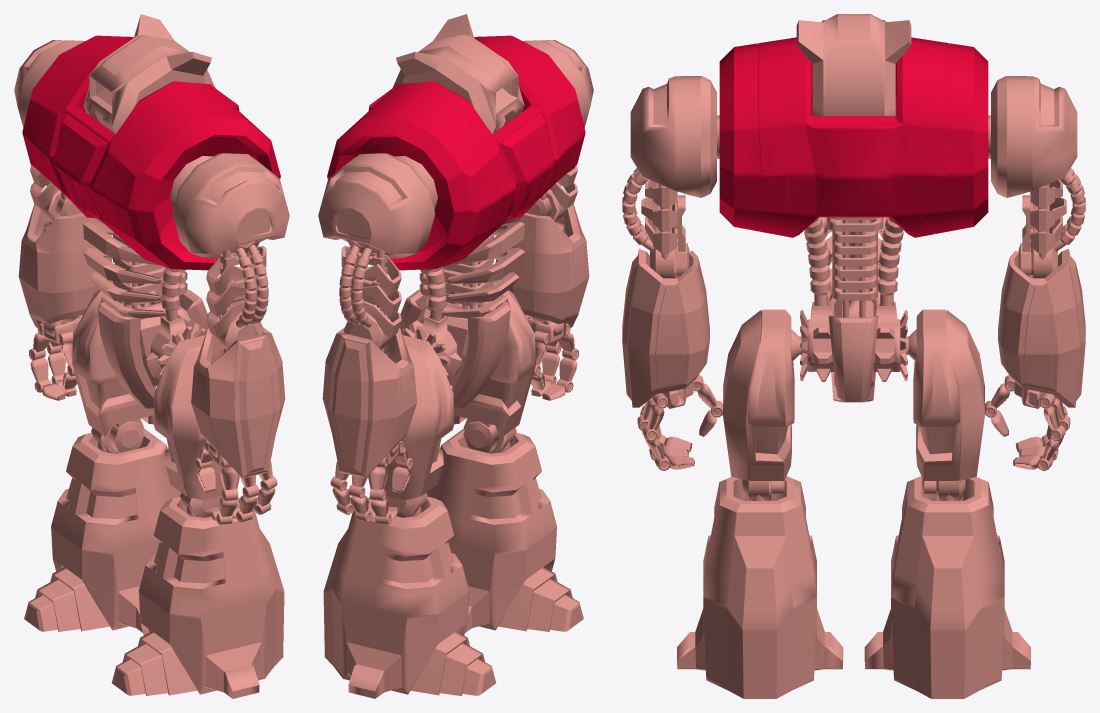
File: robot.fbx
3 views of the same model, side by side, from view 1: azimuth 30°, elevation 25°; view 2: azimuth 150°, elevation 25°; view 3: azimuth 270°, elevation 25° (orthographic). The views are drawn at different scales.
Parts seen in each view (by area): view 1: DG240; view 2: DG240; view 3: DG240.
Part boxes in pixels (box(x1,y1,x2,y2)): DG240: box(14, 14, 289, 698); DG240: box(318, 14, 593, 698); DG240: box(622, 14, 1085, 698).
Size of the model in its own units: 294 by 1024 by 667.
